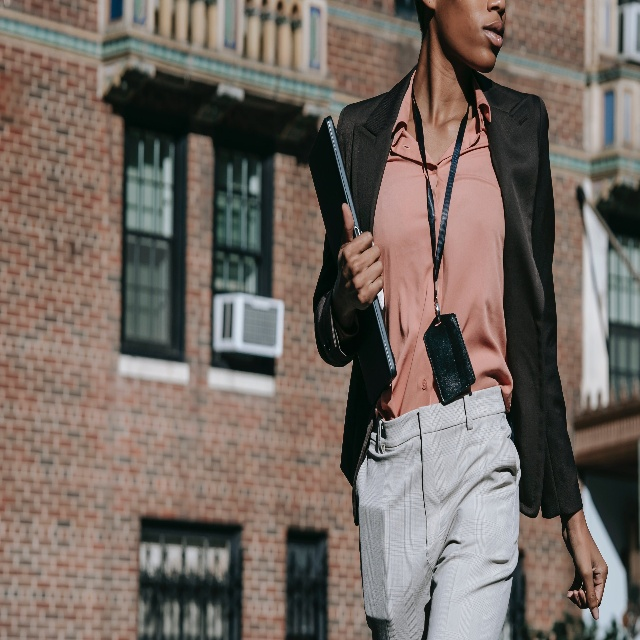Sin_guantes: (331, 199, 382, 309), (560, 524, 609, 619)
